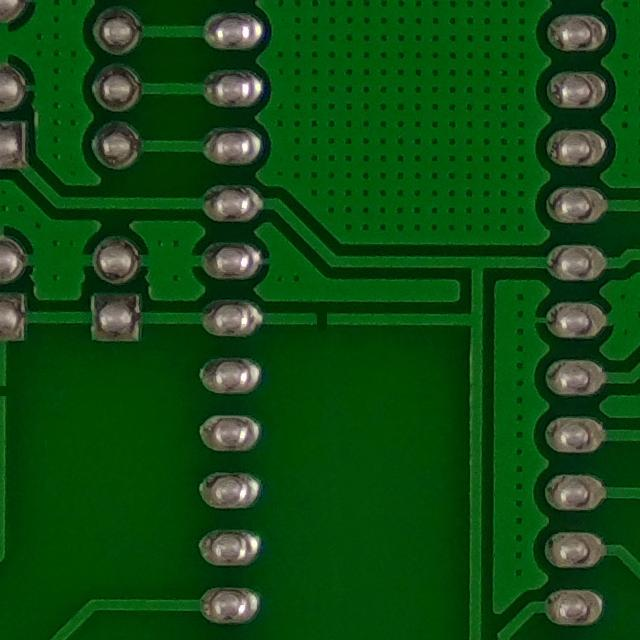open_circuit: (306, 307, 335, 333)
